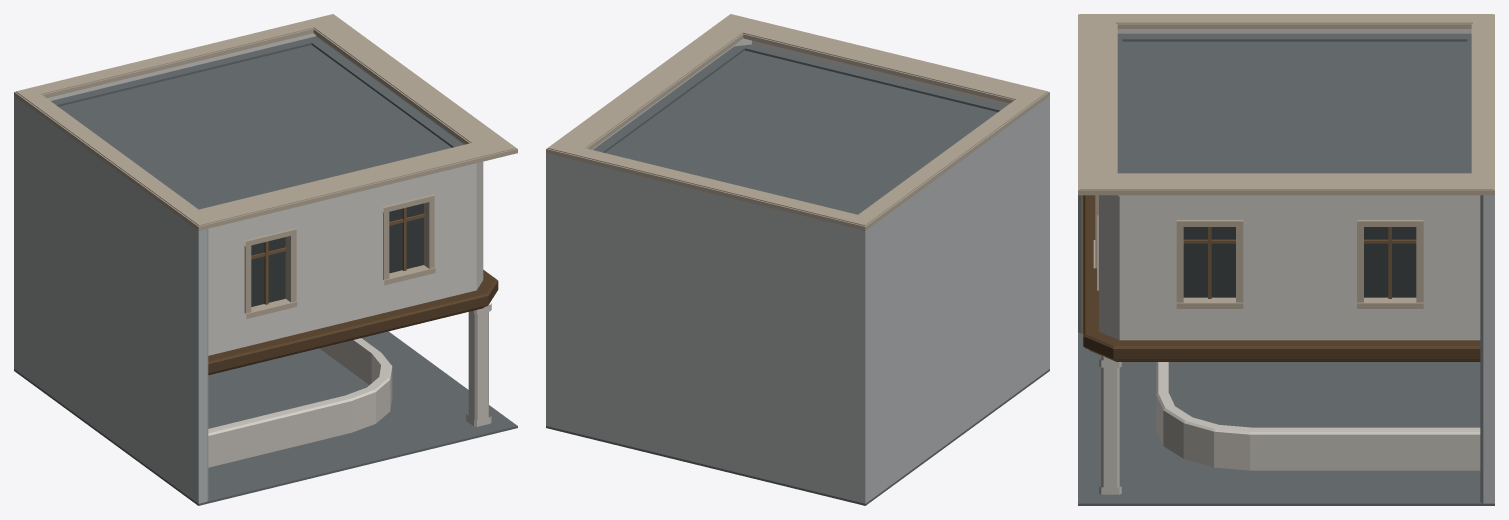
Rendered from corner-restaurant-unit-d85304.glb.
3 renders of one model, left to right at view 1: azimuth 30°, elevation 25°; view 2: azimuth 150°, elevation 25°; view 3: azimuth 270°, elevation 25°, orthographic. The views are drawn at different scales.
Visible parts, largest first — view 1: corner-unit-shell; view 2: corner-unit-shell; view 3: corner-unit-shell.
Part boxes in pixels (<box>): corner-unit-shell: <box>14,14,517,505</box>; corner-unit-shell: <box>546,14,1049,505</box>; corner-unit-shell: <box>1078,14,1494,505</box>.
Size of the model in its own units: 8 by 6.7 by 8.
